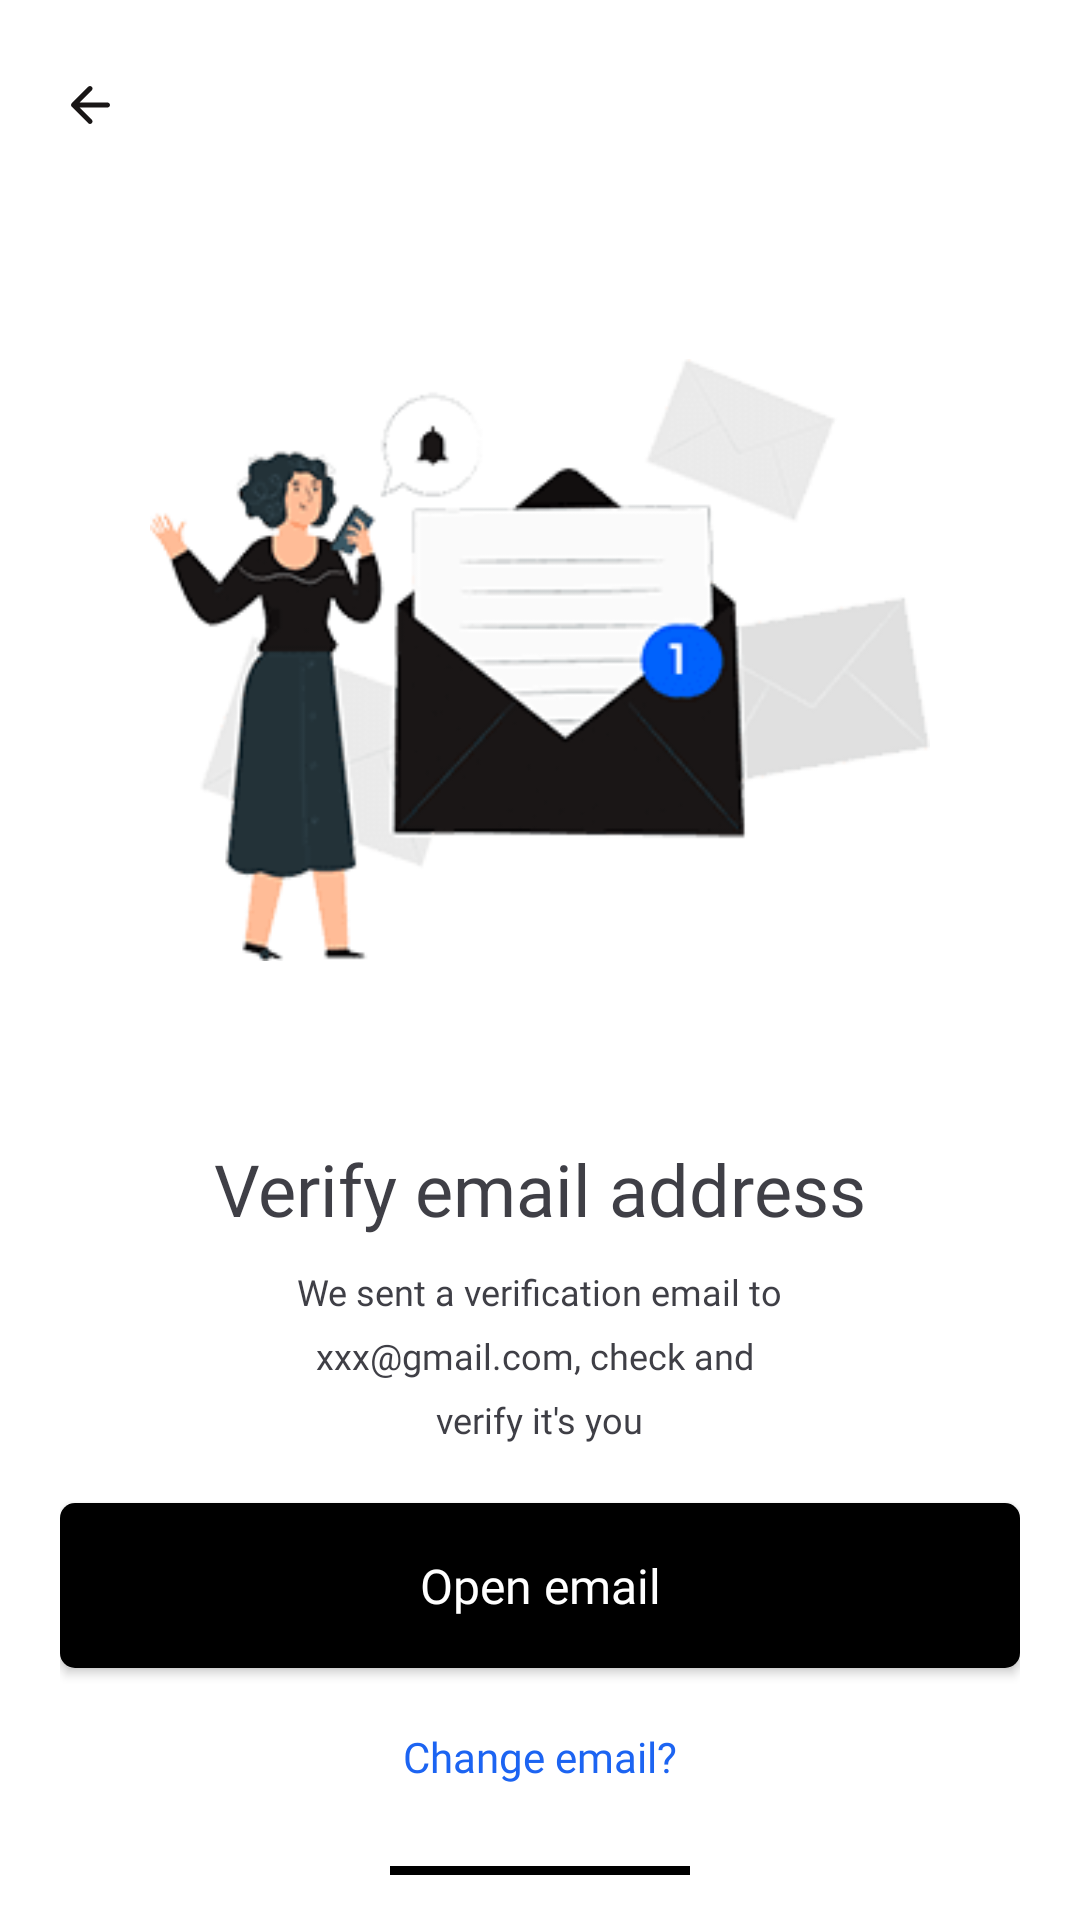

Named icons in this screenshot (1080px x 1920px) and their centers, (x=x, y=y):
arrow left: (x=90, y=105)
